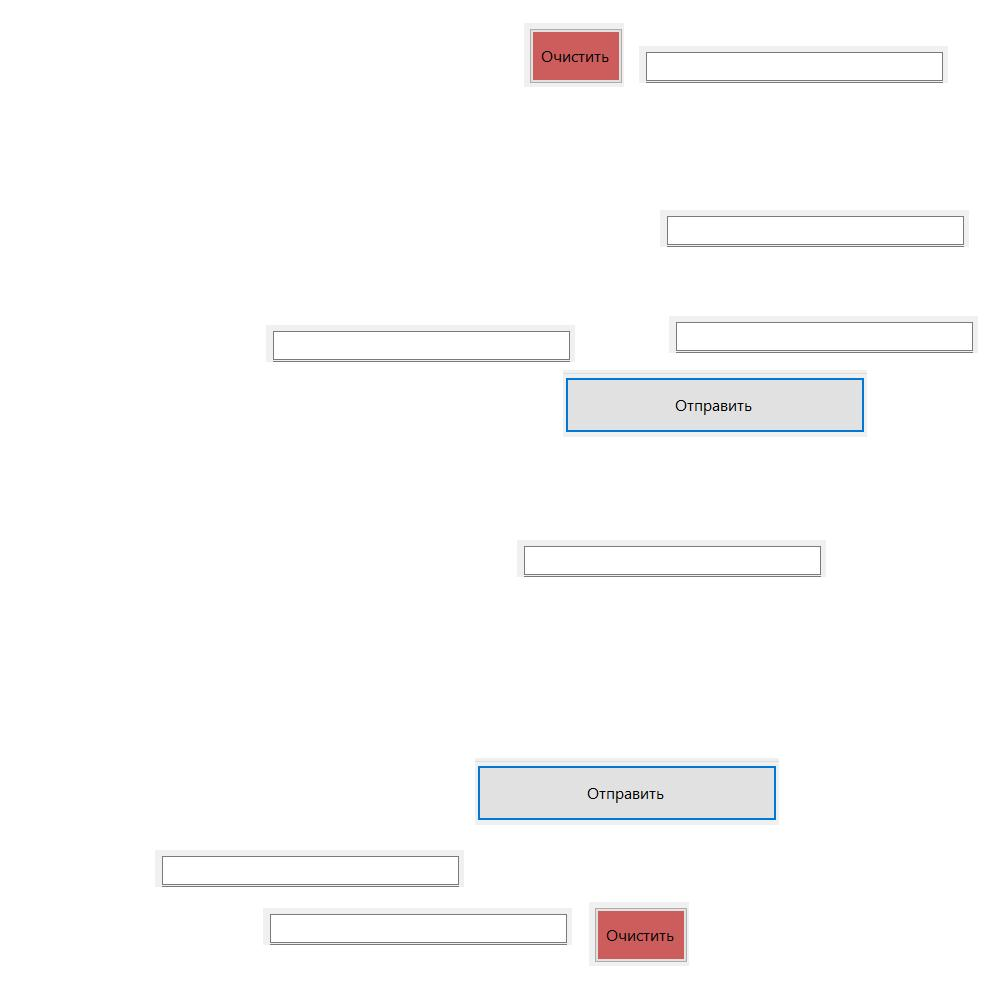Button: (475, 758, 779, 825), (563, 370, 867, 437), (589, 902, 689, 966), (524, 23, 624, 87)
EditText-: (155, 850, 464, 887), (660, 210, 969, 247), (266, 325, 575, 362), (669, 316, 978, 353), (517, 540, 826, 577), (263, 908, 572, 945), (639, 46, 948, 83)
